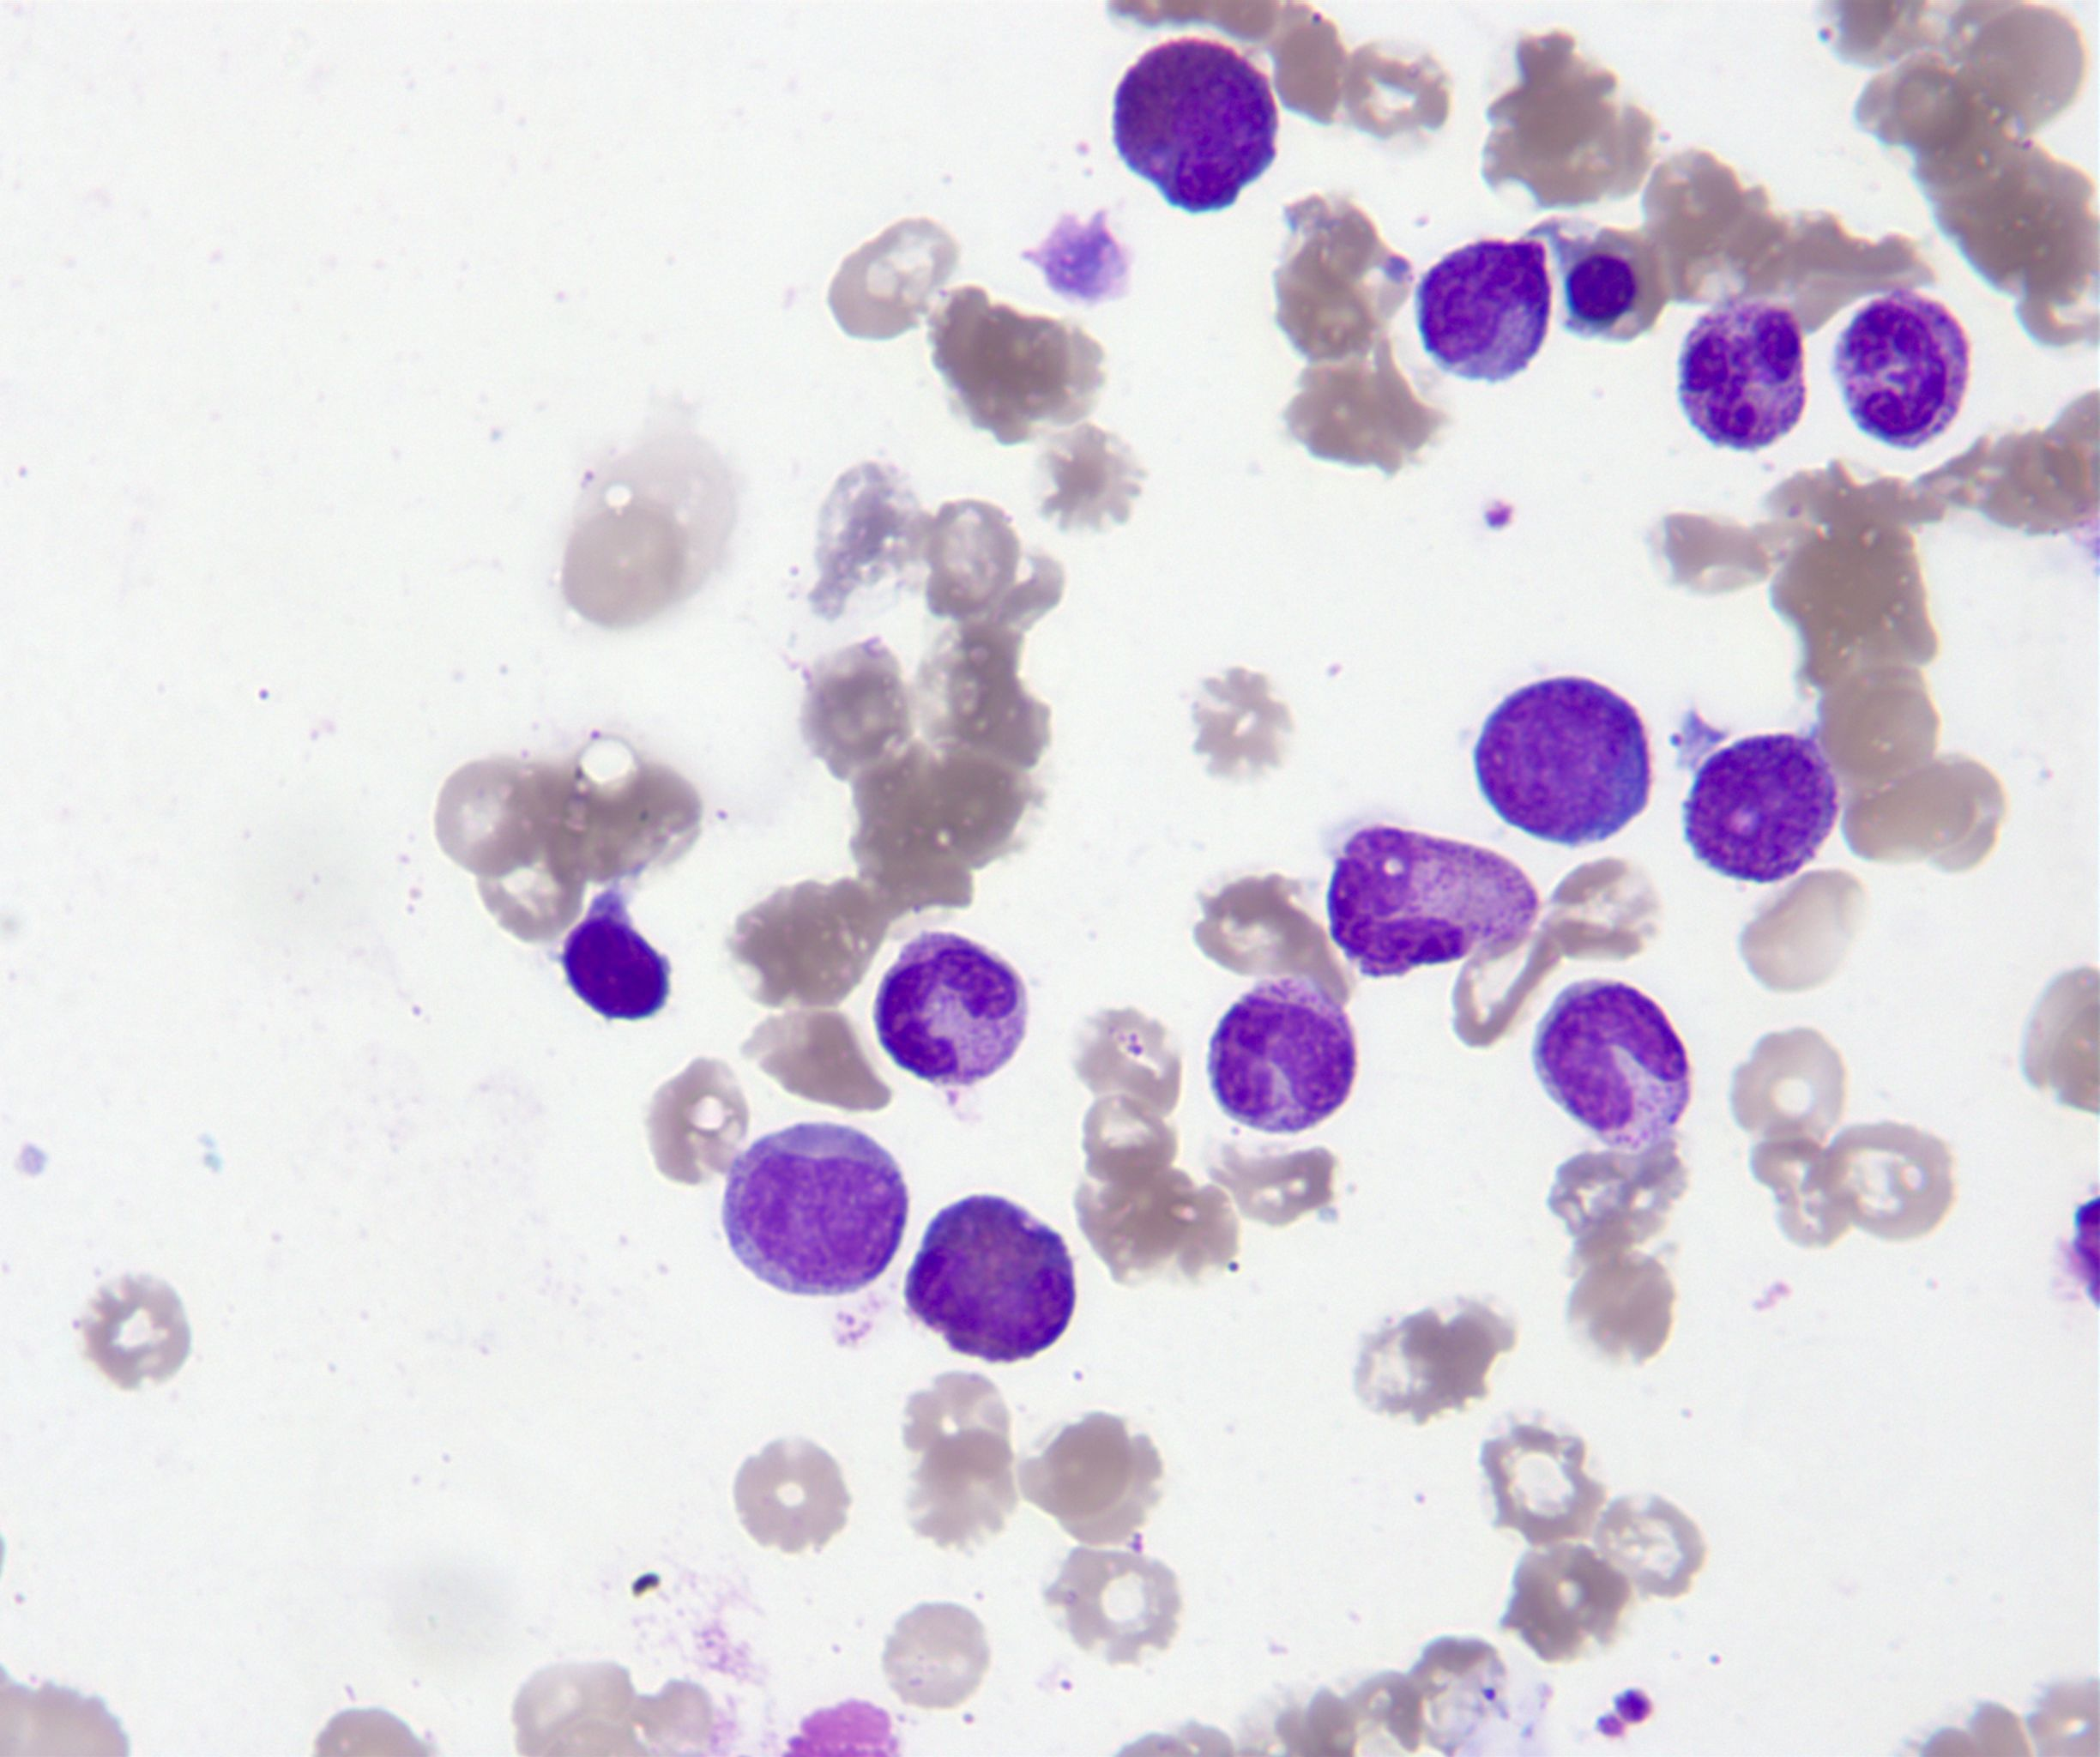1: (1463, 670, 1659, 851)
24: (1552, 223, 1660, 347)
3: (715, 1110, 914, 1303), (1409, 230, 1554, 387)
32: (558, 892, 677, 1029)
4: (1202, 970, 1364, 1138)
42: (1678, 724, 1849, 888)
5: (1530, 977, 1695, 1152), (870, 925, 1033, 1094), (1831, 284, 1974, 455)
6: (1322, 818, 1545, 984), (1676, 298, 1814, 459)
E2: (1108, 35, 1284, 215)
E4: (902, 1188, 1080, 1370)
